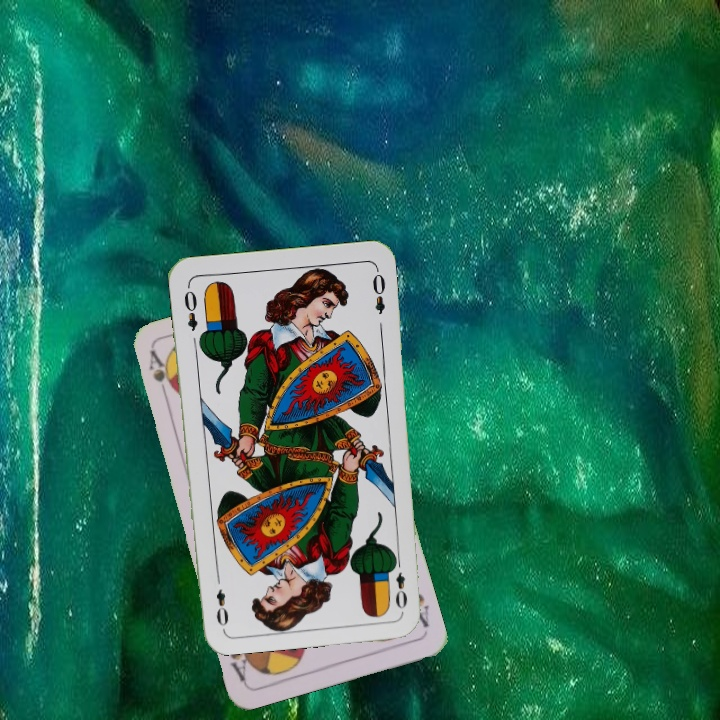EO: (388, 554, 410, 612), (180, 286, 200, 334)
SA: (144, 347, 173, 405)
